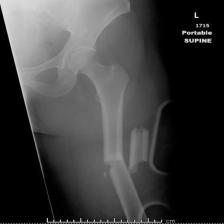longitudinal-fracture: (3, 0, 177, 224)
